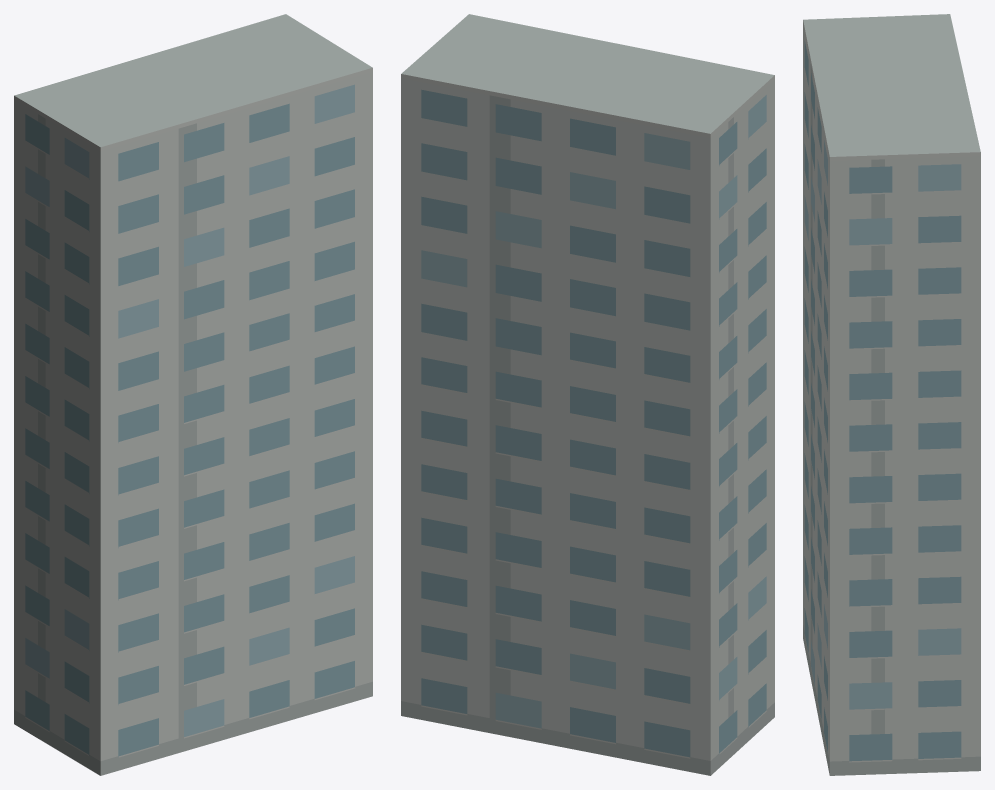
Rendered from residential-d055b973-0781-47b9-9ea0-d1908ba8af36.glb.
3 views of the same model, side by side, from view 1: azimuth 30°, elevation 25°; view 2: azimuth 150°, elevation 25°; view 3: azimuth 270°, elevation 25° (orthographic). The views are drawn at different scales.
Visible parts, largest first — view 1: residential-d055b973-0781-47b9-9ea0-d1908ba8af36.tmp; view 2: residential-d055b973-0781-47b9-9ea0-d1908ba8af36.tmp; view 3: residential-d055b973-0781-47b9-9ea0-d1908ba8af36.tmp.
Boxes of the visible parts, bbox=[...] form: residential-d055b973-0781-47b9-9ea0-d1908ba8af36.tmp: bbox=[14, 14, 372, 775]; residential-d055b973-0781-47b9-9ea0-d1908ba8af36.tmp: bbox=[401, 14, 774, 775]; residential-d055b973-0781-47b9-9ea0-d1908ba8af36.tmp: bbox=[803, 14, 980, 775].
Bounding box in the file's own units: 18.34 × 37 × 9.64.
